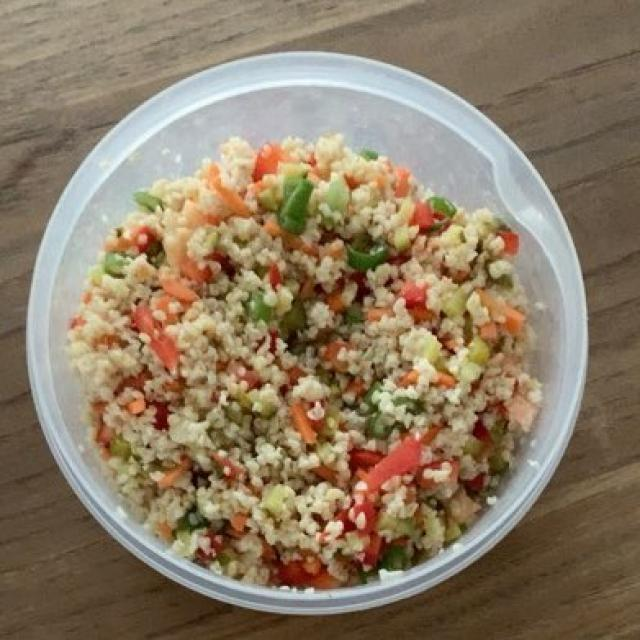taboule-prepared-with-couscous: (74, 144, 533, 583)
